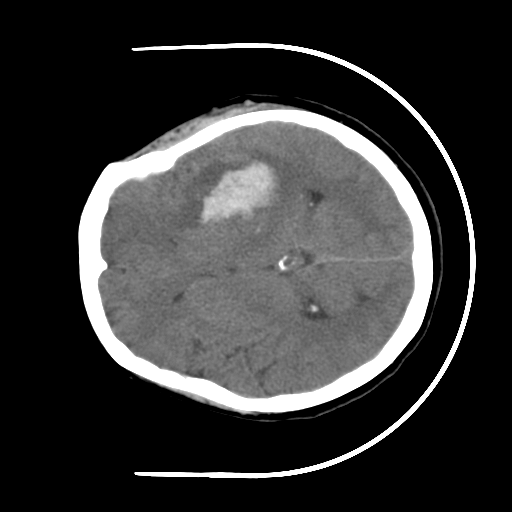a: (162, 138, 306, 242)
